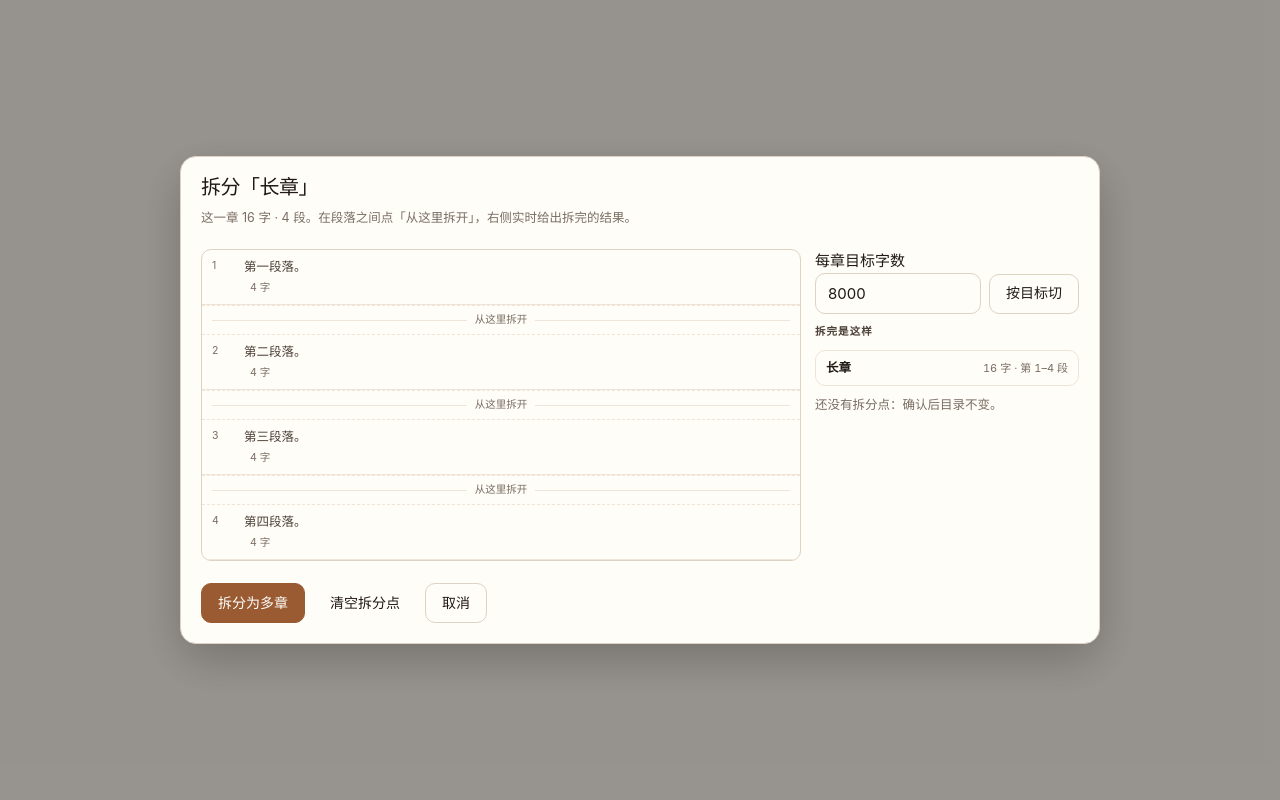
Test: 拆分章节面板 › 再点一下取消该拆分点
Click the button with test id "split-cut-1". click: [501, 320]
box: [202, 305, 800, 335]
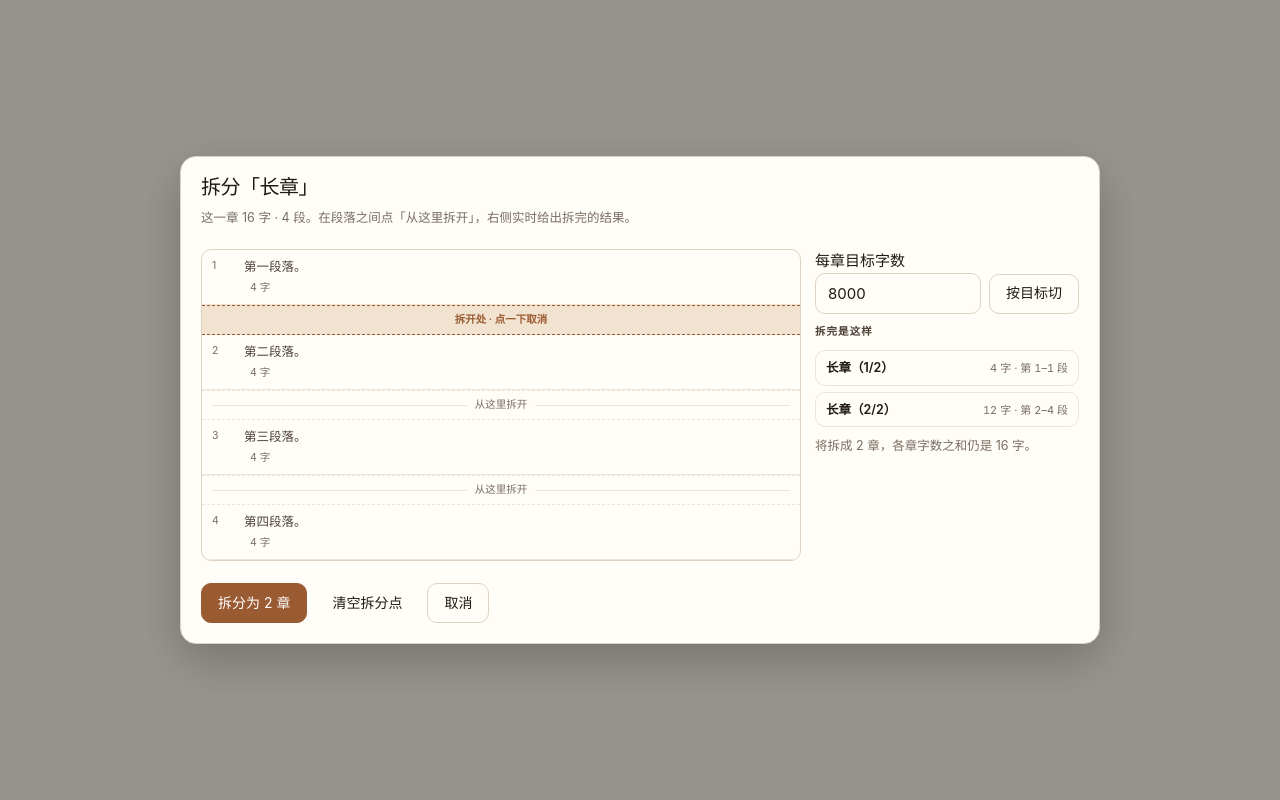
Click the button with test id "split-cut-1". click: [501, 320]
box: [202, 305, 800, 335]
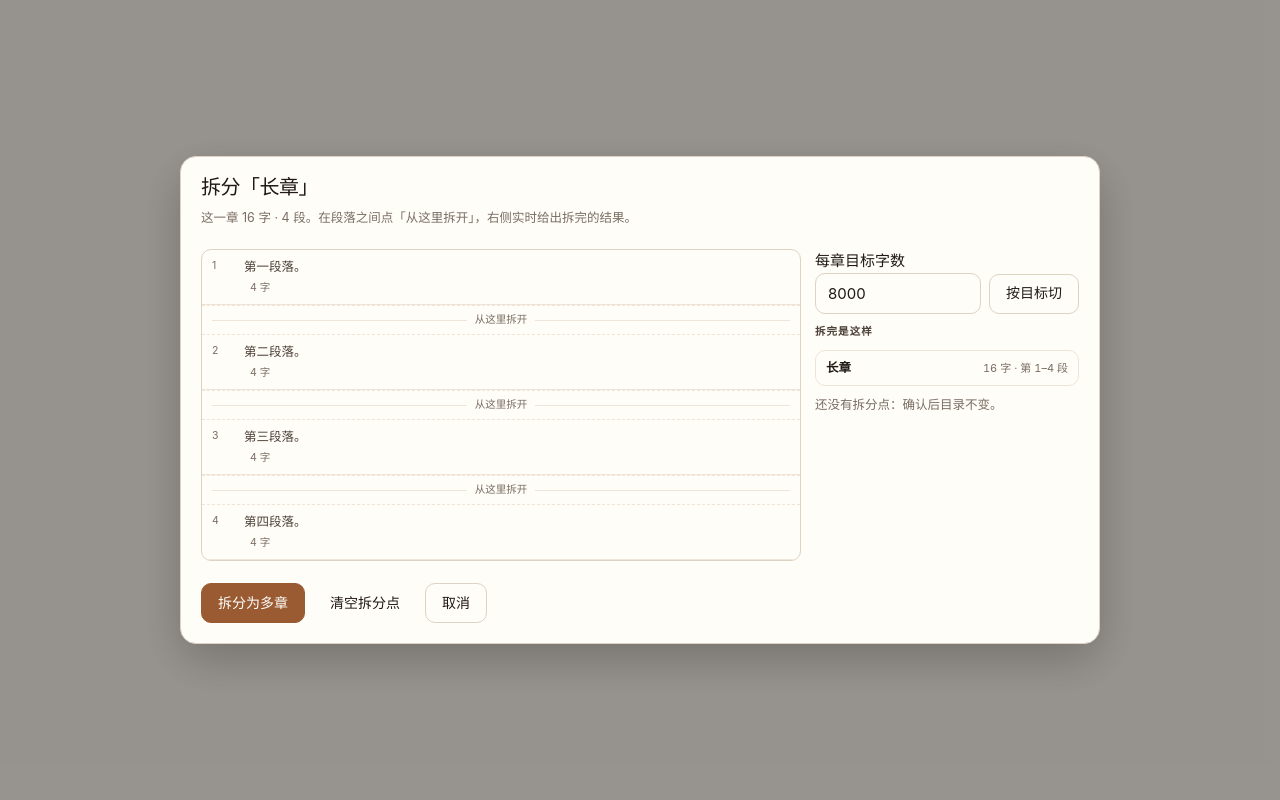
Check: the button with test id "split-confirm" is disabled, box [201, 583, 305, 623]
